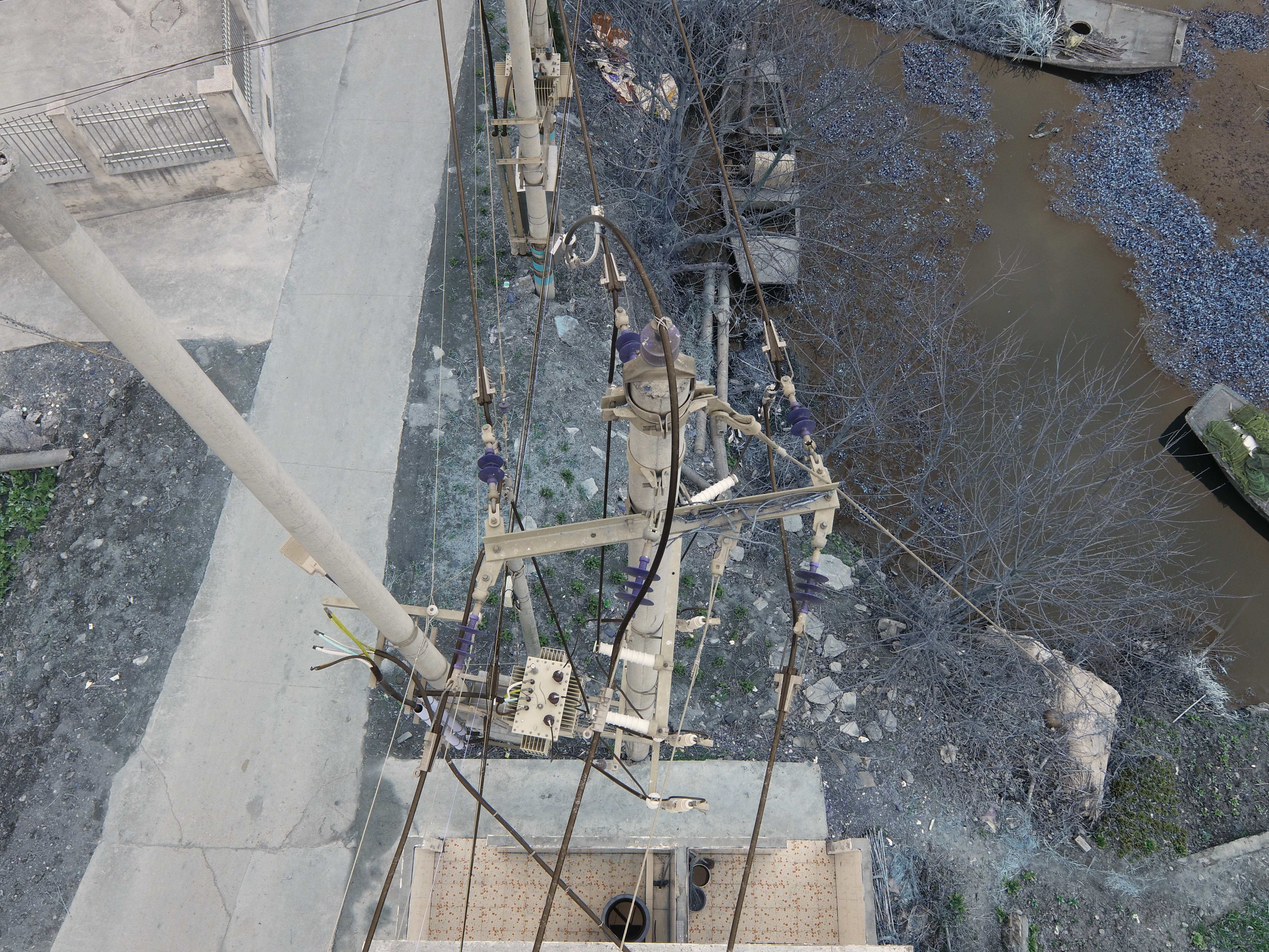severe_soiling_no_discharge_whole: (638, 315, 686, 368)
